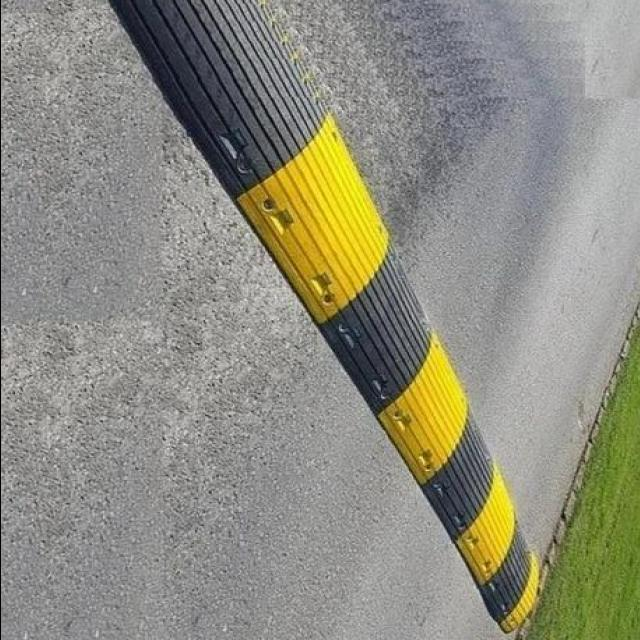speedbreaker: (91, 0, 554, 640)
